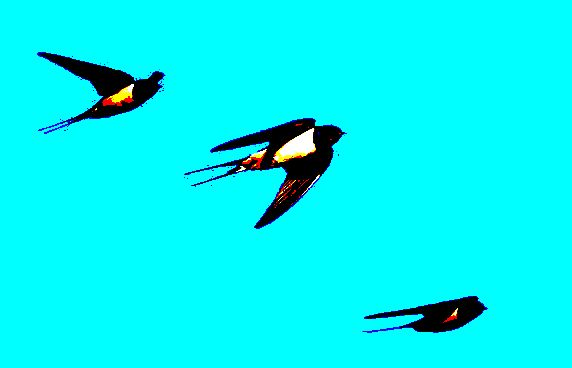Bird: (184, 113, 346, 231), (33, 48, 165, 137), (361, 294, 491, 335)
